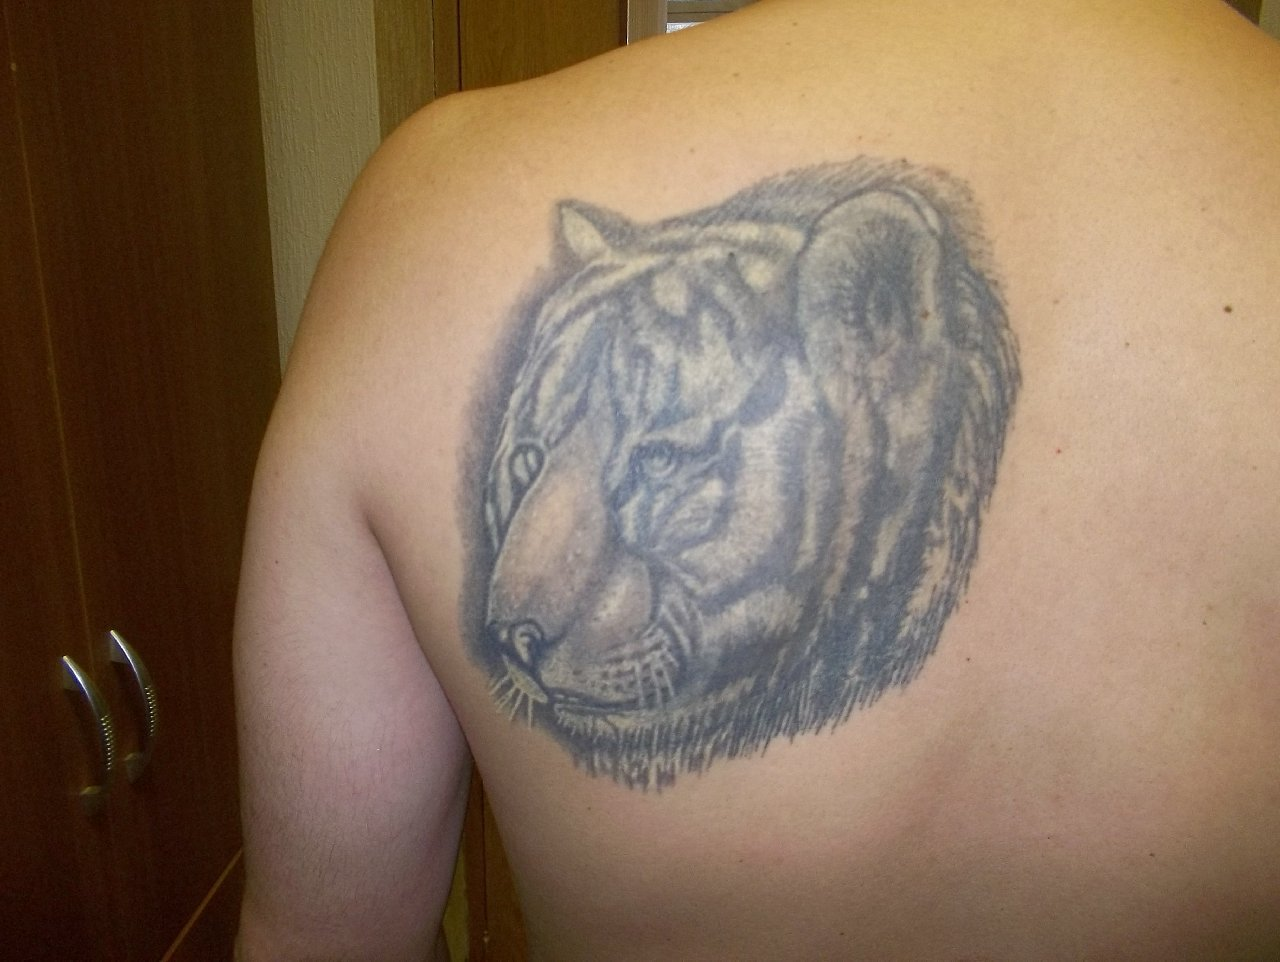tatu5_tigr: (441, 183, 990, 757)
